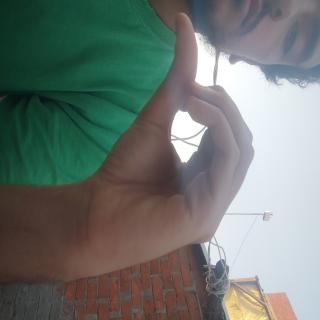WAW: (4, 77, 217, 320)
